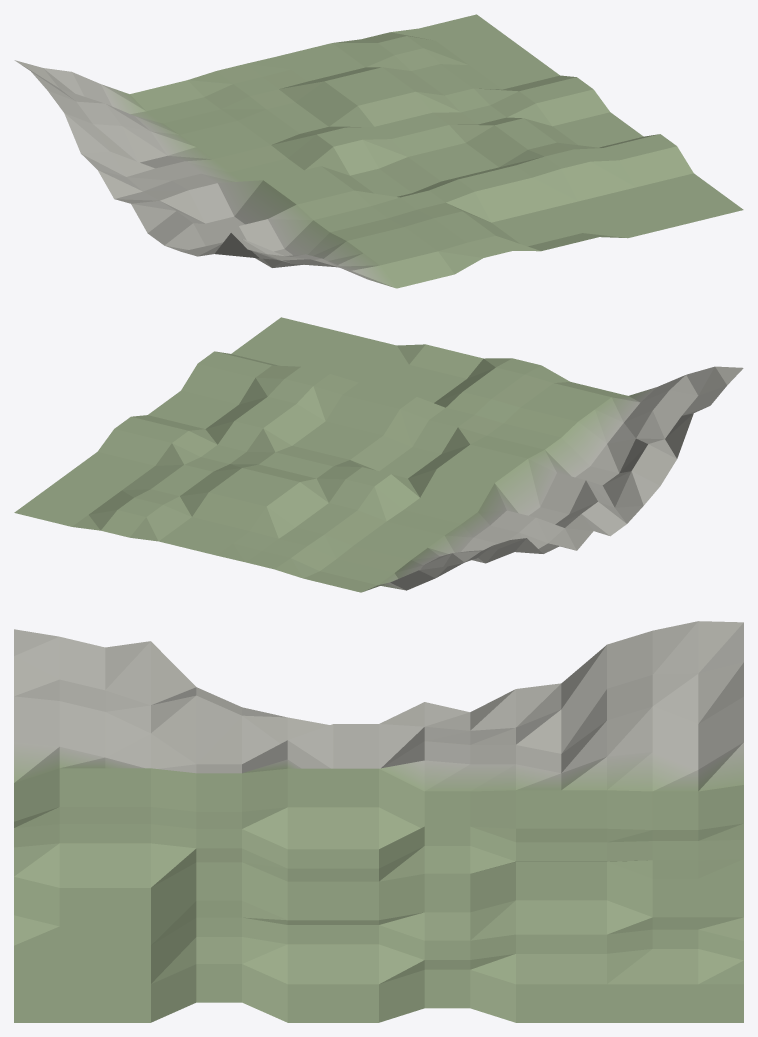
3 renders of one model, top to bottom at view 1: azimuth 30°, elevation 25°; view 2: azimuth 150°, elevation 25°; view 3: azimuth 270°, elevation 25°, orthographic. The views are drawn at different scales.
Size of the model in its own units: 32 by 5.34 by 32.
